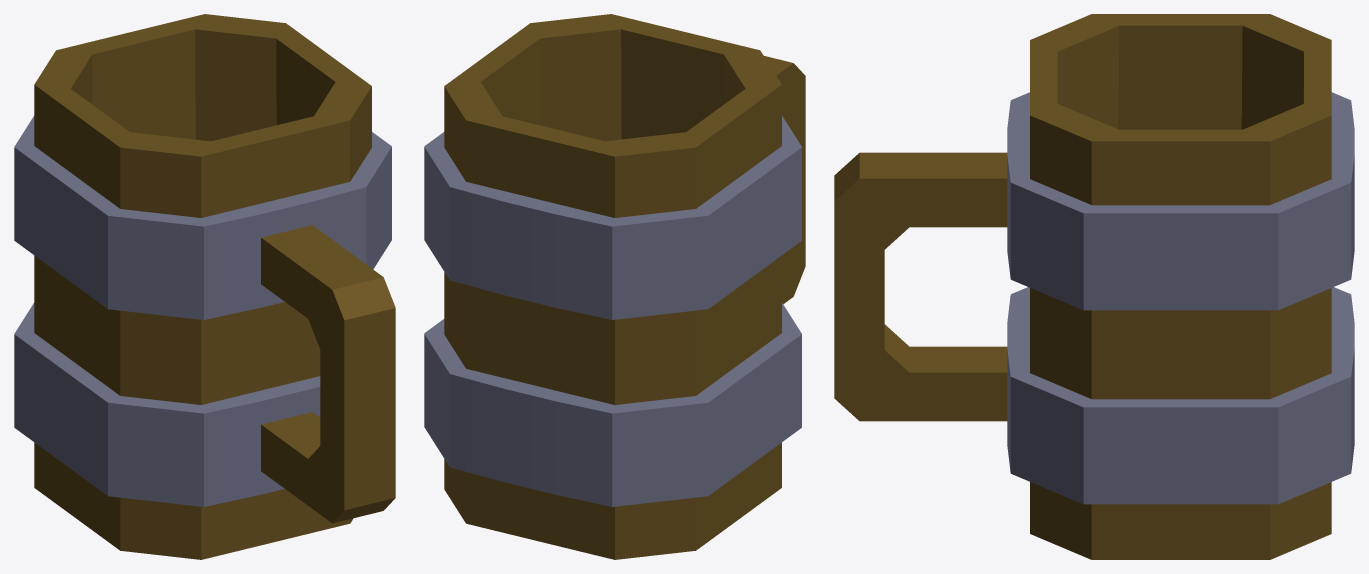
The model's file is Mug.fbx.
The picture shows the model from 3 angles, left to right: view 1: azimuth 30°, elevation 25°; view 2: azimuth 150°, elevation 25°; view 3: azimuth 270°, elevation 25°; orthographic projection. The views are drawn at different scales.
Visible parts, largest first — view 1: pCube89; view 2: pCube89; view 3: pCube89.
Boxes of the visible parts, box(x1,y1,x2,y2) form: pCube89: box(14, 14, 395, 559); pCube89: box(424, 14, 805, 559); pCube89: box(834, 14, 1354, 559).
Bounding box in the file's own units: 0.3256 × 0.4415 × 0.4972.
